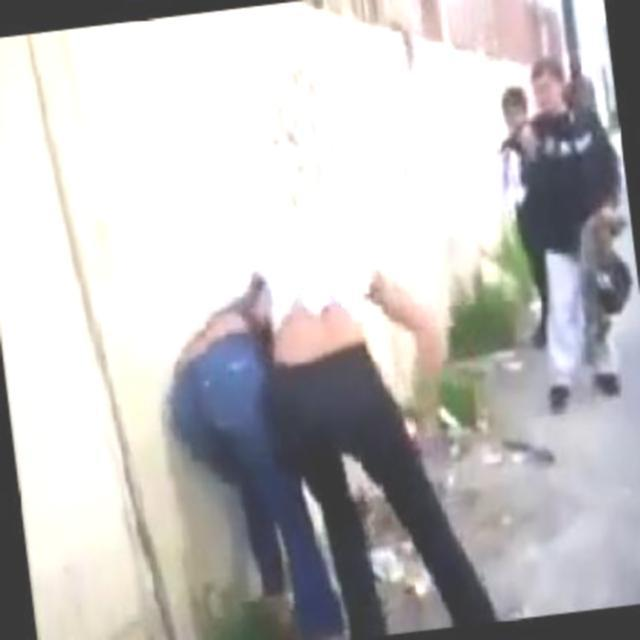fight: (152, 215, 477, 603)
non-fight: (506, 52, 639, 354)
